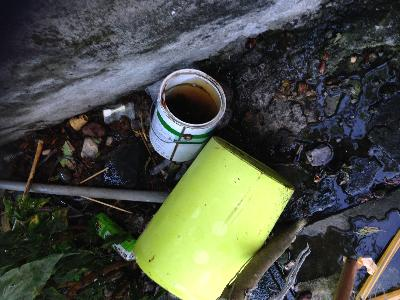bottle: (88, 208, 136, 262)
bucket: (130, 135, 296, 299), (147, 66, 226, 163)
